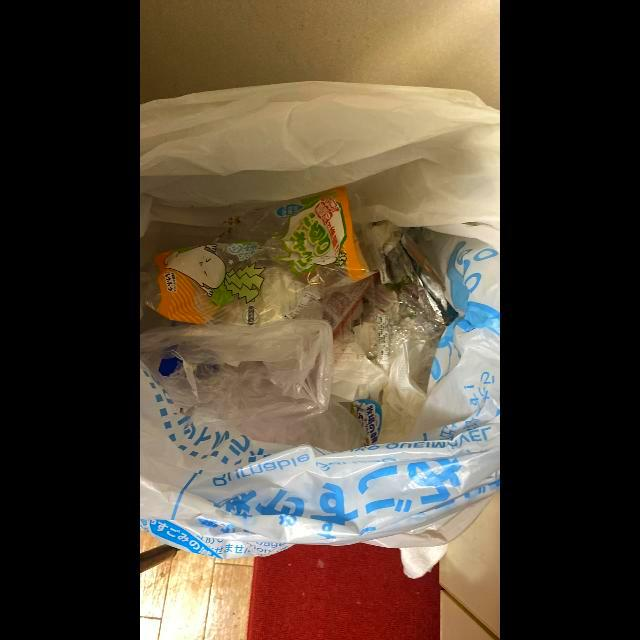food_wrapper: (149, 187, 370, 325)
plastic_bag: (140, 319, 335, 448)
